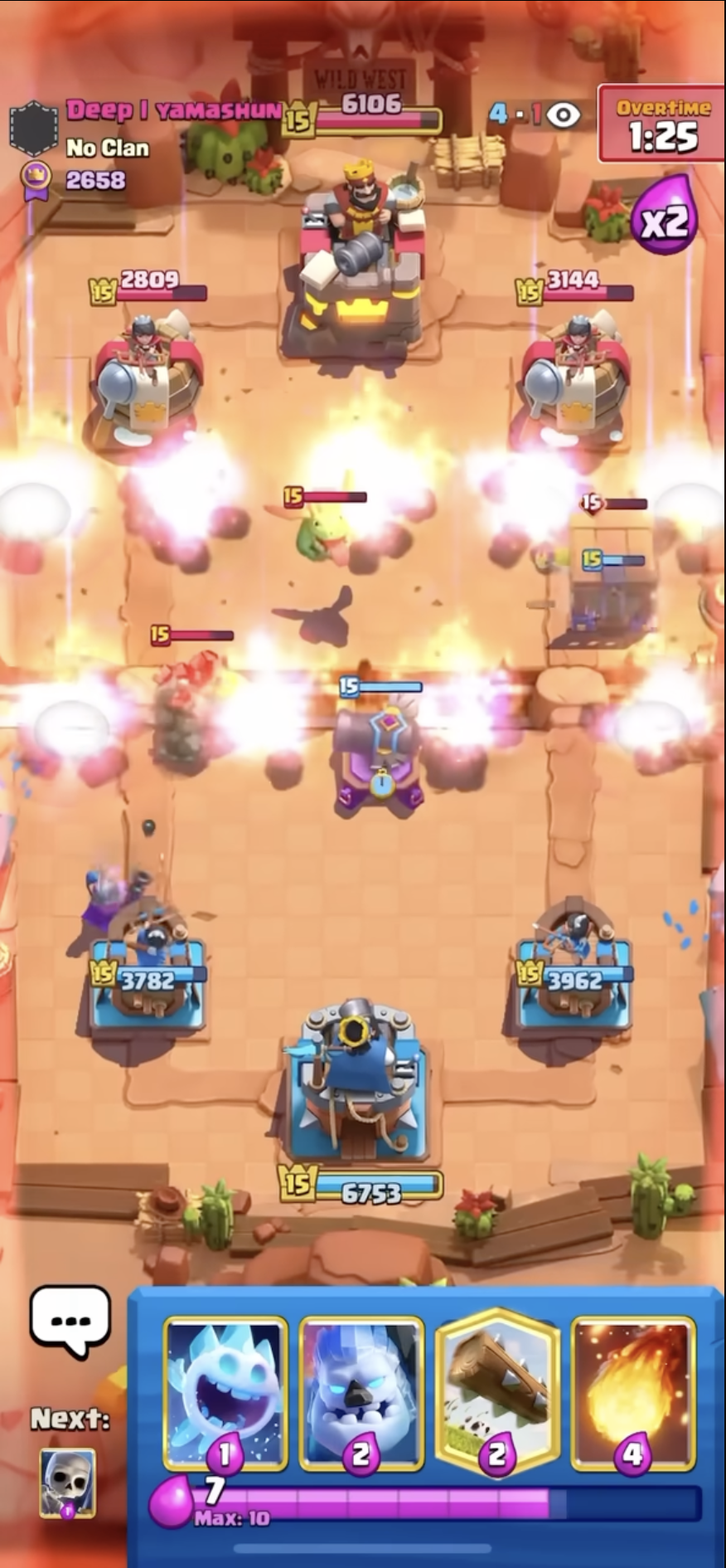evo_cannon: (315, 669, 439, 825)
evo_musketeer: (75, 843, 158, 944)
